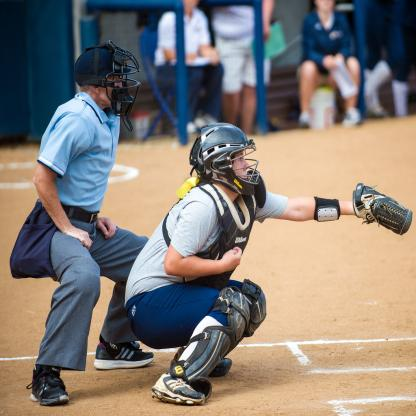Helmet: (70, 38, 143, 134), (188, 122, 262, 196)
